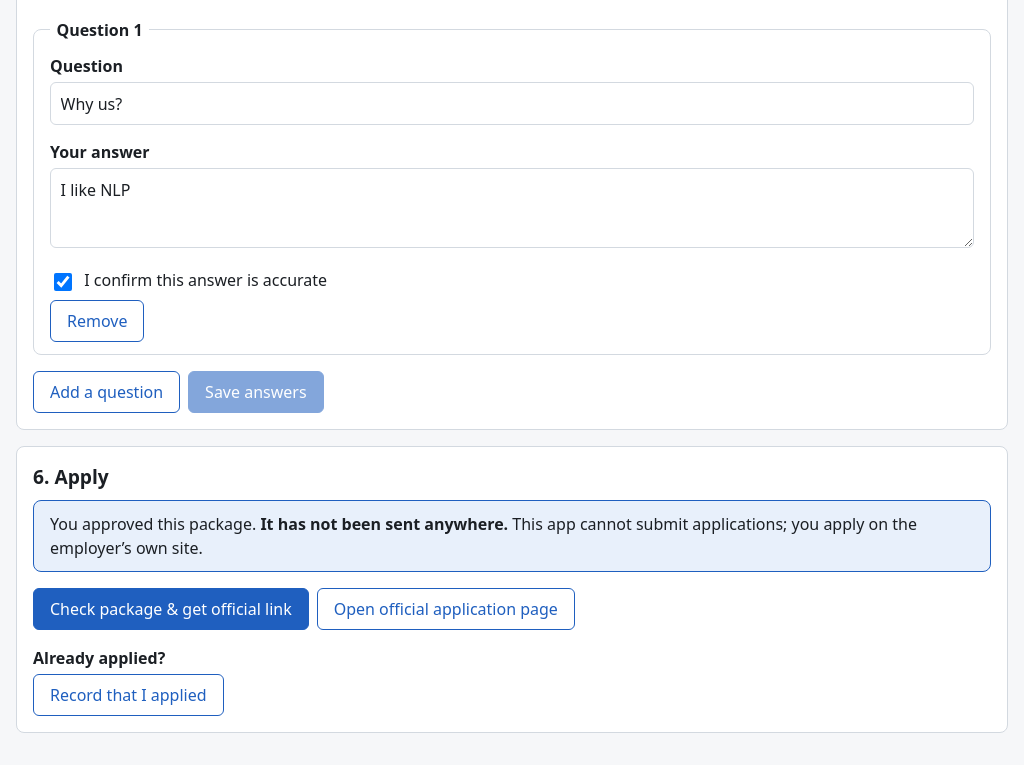
Test case: application review › "submit" never claims success: it returns the manual path and the status stays "not yet applied"
(page scrolled)
Step 1. Click the button "Check package & get official link" → click(171, 609), box [33, 588, 309, 630]
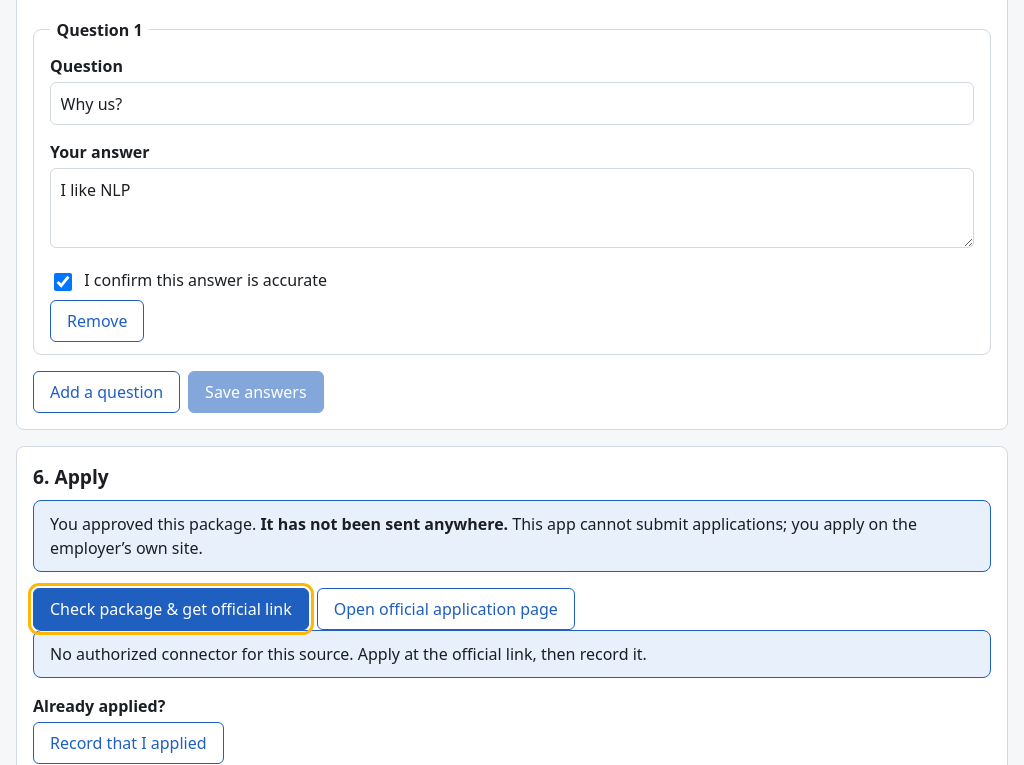
Expected: the text "No authorized connector" is shown, [50, 643, 647, 665]
